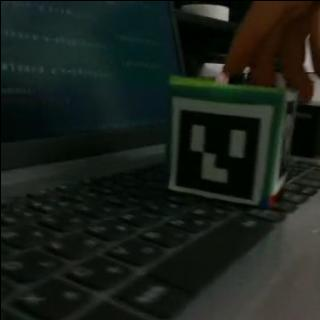armor: (169, 98, 274, 200)
robot: (162, 75, 296, 206)
